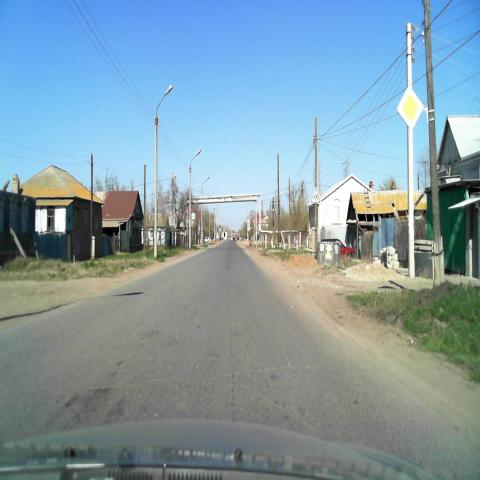1_23: (310, 186, 320, 204)
2_1: (398, 85, 424, 128)
